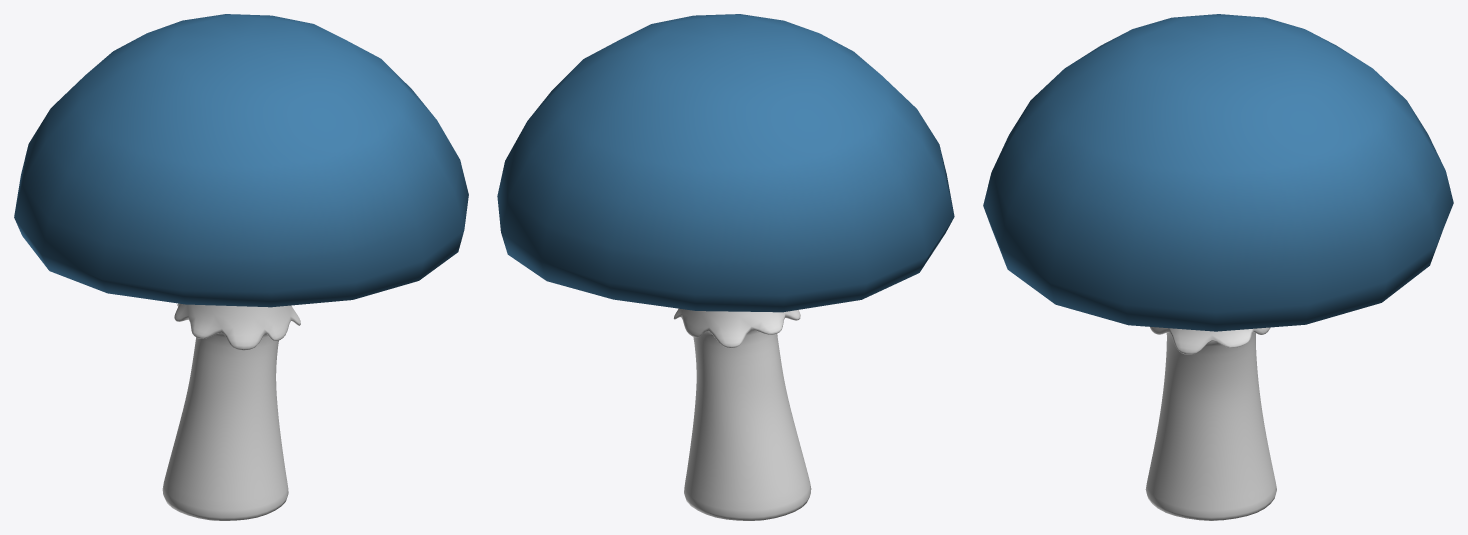
File: PoisonMushroom_A.fbx
3 renders of one model, left to right at view 1: azimuth 30°, elevation 25°; view 2: azimuth 150°, elevation 25°; view 3: azimuth 270°, elevation 25°, orthographic. The views are drawn at different scales.
Visible parts, largest first — view 1: Normal Mushroom.002, White Russula handle.002; view 2: Normal Mushroom.002, White Russula handle.002; view 3: Normal Mushroom.002, White Russula handle.002.
Part boxes in pixels (x1,y1,x2,y2): Normal Mushroom.002: (14, 14, 468, 307); White Russula handle.002: (162, 303, 300, 520); Normal Mushroom.002: (497, 14, 954, 312); White Russula handle.002: (673, 308, 811, 520); Normal Mushroom.002: (983, 14, 1453, 331); White Russula handle.002: (1145, 327, 1276, 520).
Size of the model in its own units: 79.14 by 85.9 by 78.73.
